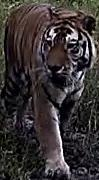tiger: (1, 4, 95, 177)
